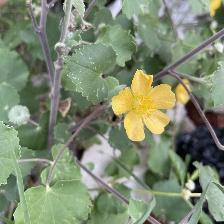indian mallow: (111, 69, 179, 144)
